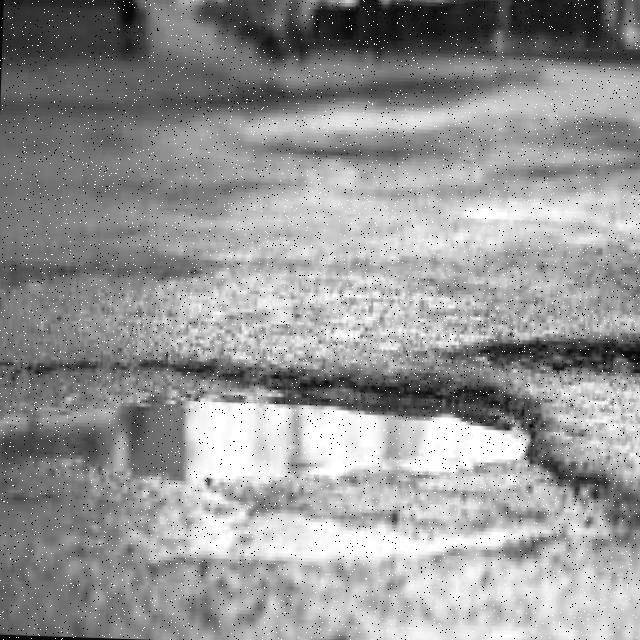pothole: (0, 359, 579, 547)
